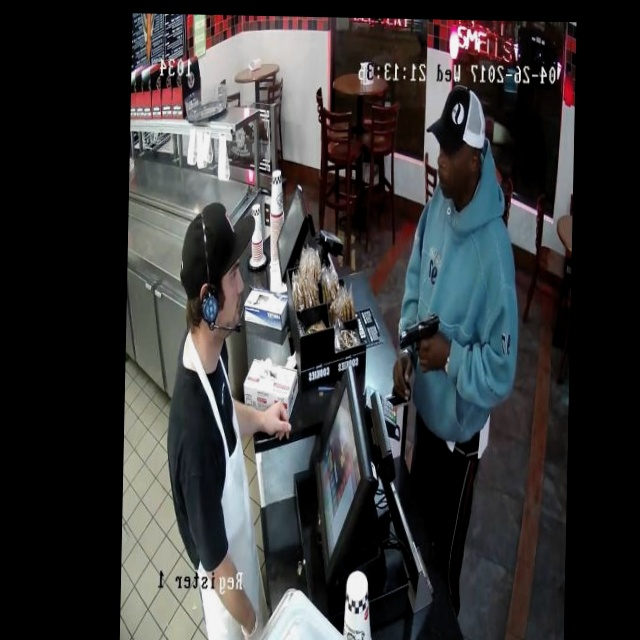gun: (389, 306, 453, 367)
